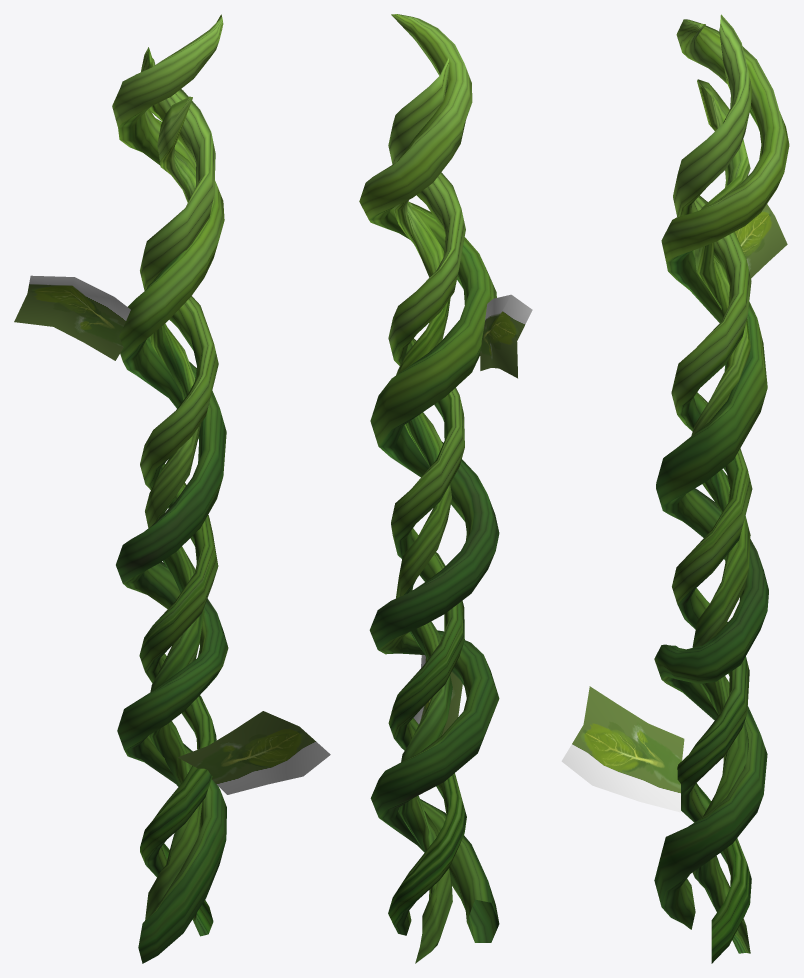
File: mamenoki.fbx
3 views of the same model, side by side, from view 1: azimuth 30°, elevation 25°; view 2: azimuth 150°, elevation 25°; view 3: azimuth 270°, elevation 25° (orthographic). The views are drawn at different scales.
Visible parts, largest first — view 1: group_pasted__pHelix1, pPlane1, pasted__pPlane1; view 2: group_pasted__pHelix1, pasted__pPlane1, pPlane1; view 3: group_pasted__pHelix1, pPlane1, pasted__pPlane1.
Boxes of the visible parts, box(x1,y1,x2,y2) form: group_pasted__pHelix1: box(112, 14, 228, 963); pPlane1: box(178, 711, 330, 794); pasted__pPlane1: box(14, 275, 130, 360); group_pasted__pHelix1: box(359, 14, 499, 963); pasted__pPlane1: box(480, 294, 532, 378); pPlane1: box(413, 655, 462, 735); group_pasted__pHelix1: box(654, 14, 789, 963); pPlane1: box(561, 686, 684, 812); pasted__pPlane1: box(735, 204, 787, 278).
Bounding box in the file's own units: 25.44 × 109 × 23.65.
